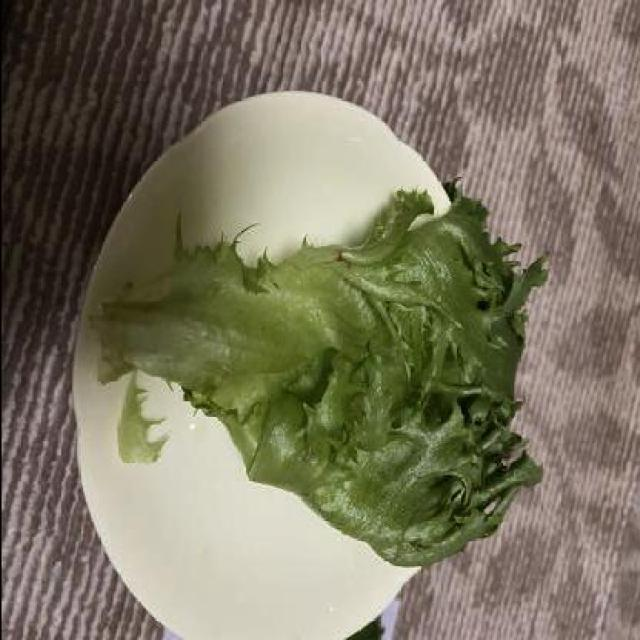Lettuce: (87, 178, 557, 571)
